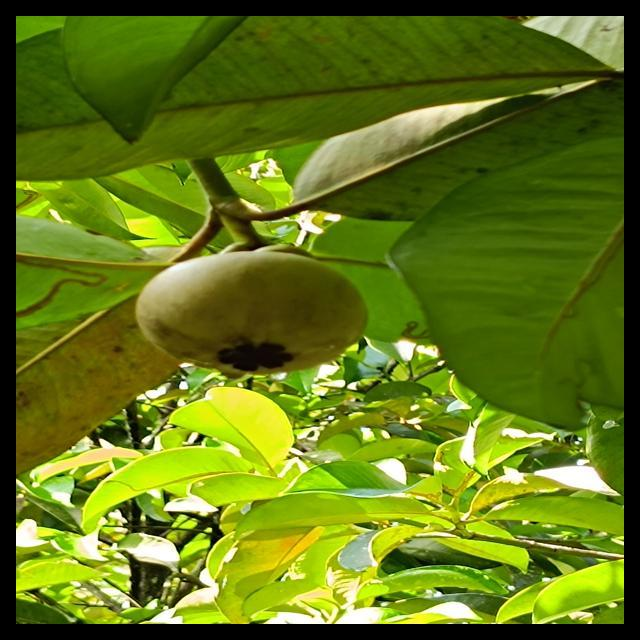mangosteen: (122, 217, 386, 420)
